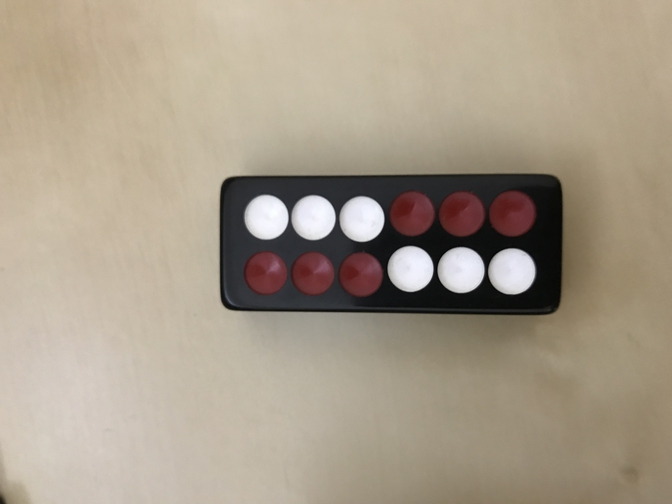heaven: (221, 174, 563, 314)
